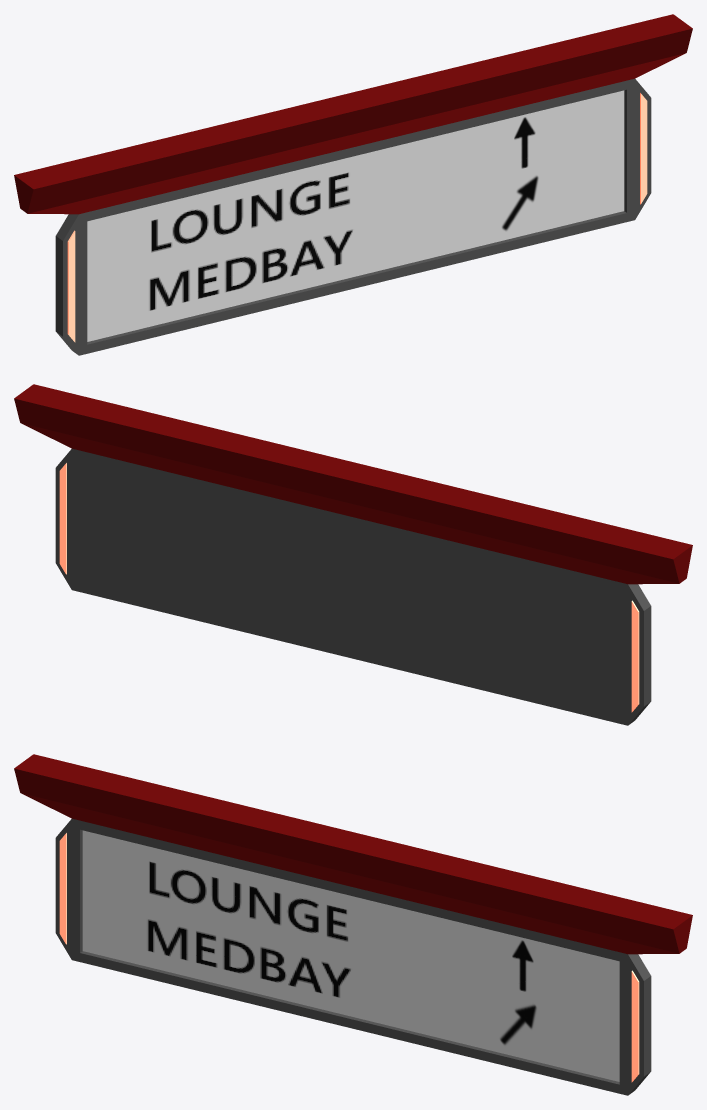
The model's file is Sign_medbay-lounge.fbx.
The picture shows the model from 3 angles, top to bottom: view 1: azimuth 30°, elevation 25°; view 2: azimuth 150°, elevation 25°; view 3: azimuth 330°, elevation 25°; orthographic projection.
Visible parts, largest first — view 1: Cube; view 2: Cube; view 3: Cube.
Part boxes in pixels (left/top/right/bottom): Cube: left=14, top=14, right=692, bottom=355; Cube: left=14, top=384, right=692, bottom=725; Cube: left=14, top=754, right=692, bottom=1095.
Bounding box in the file's own units: 237 × 63.07 × 12.23.
